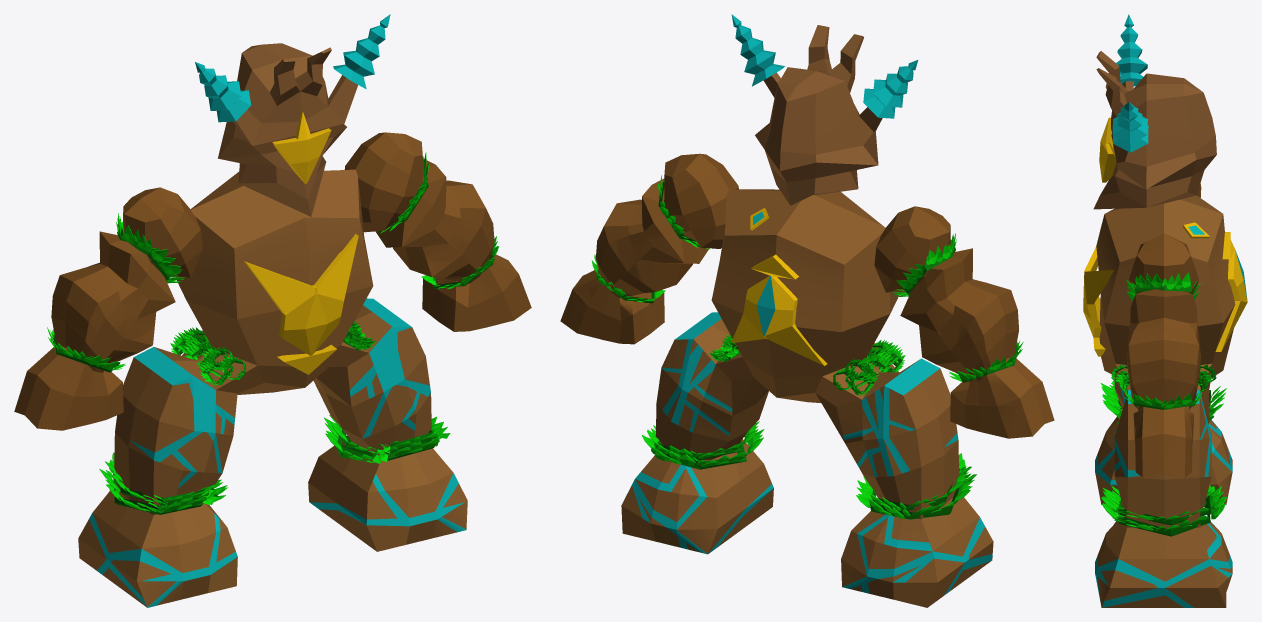
File: 4TO ELEMENTO.fbx
The picture shows the model from 3 angles, left to right: view 1: azimuth 30°, elevation 25°; view 2: azimuth 150°, elevation 25°; view 3: azimuth 270°, elevation 25°; orthographic projection. The views are drawn at different scales.
Parts seen in each view (by area): view 1: polySurface1291; view 2: polySurface1291; view 3: polySurface1291.
Part boxes in pixels (x1,y1,x2,y2): polySurface1291: (14,14,531,607); polySurface1291: (560,14,1054,607); polySurface1291: (1083,14,1247,607).
Size of the model in its own units: 7.36 by 7.37 by 2.29.
